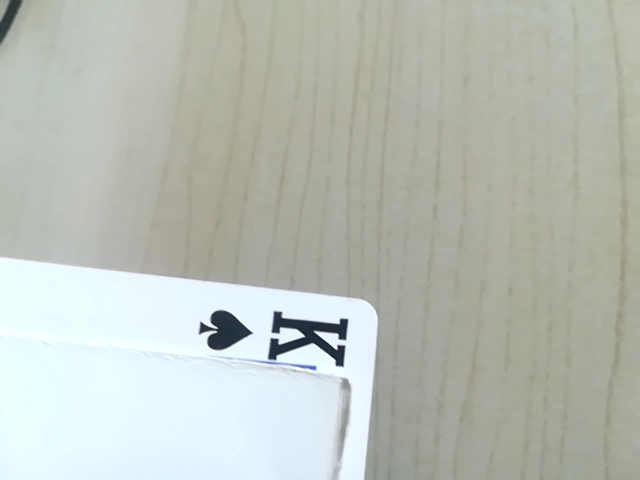ht k: (174, 292, 373, 386)
